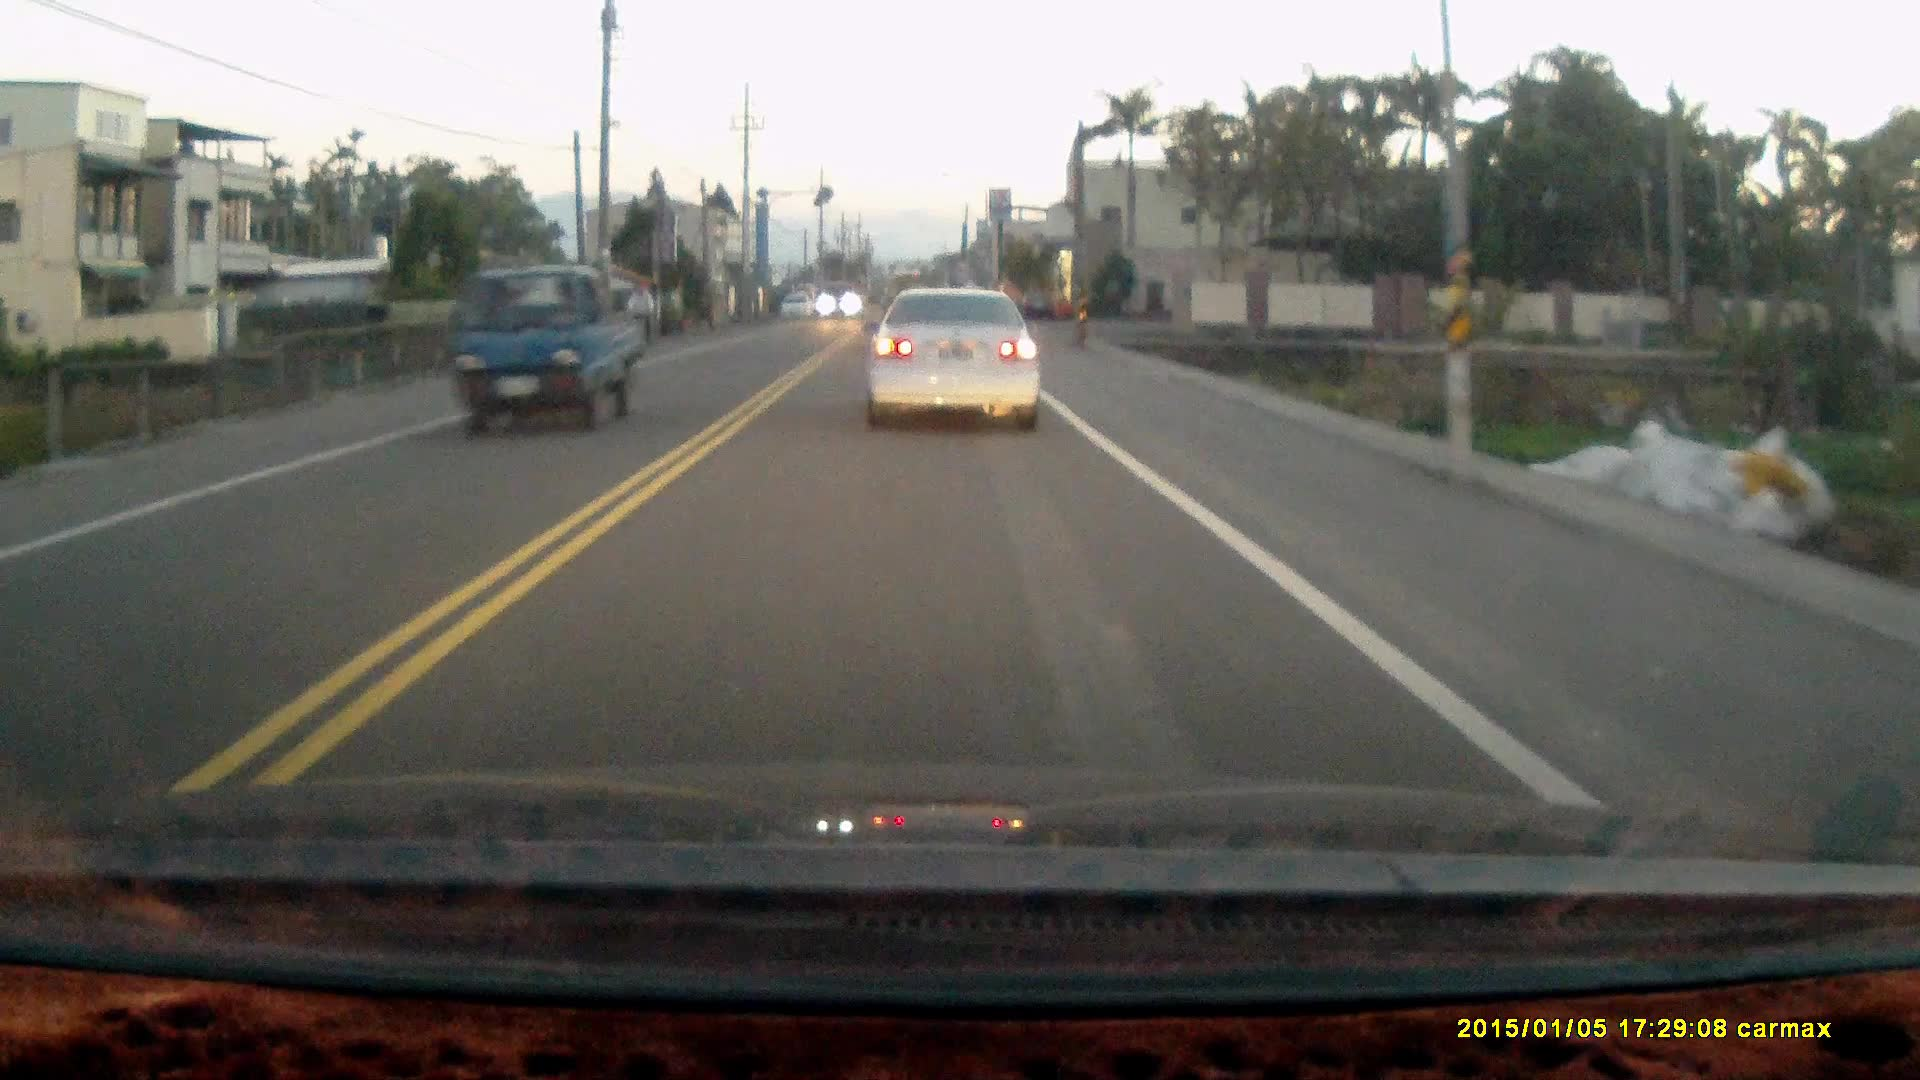rider: (625, 277, 654, 359)
vehicle: (450, 265, 649, 439), (869, 289, 1046, 428), (819, 280, 857, 320), (1020, 288, 1057, 320), (780, 293, 813, 322)
